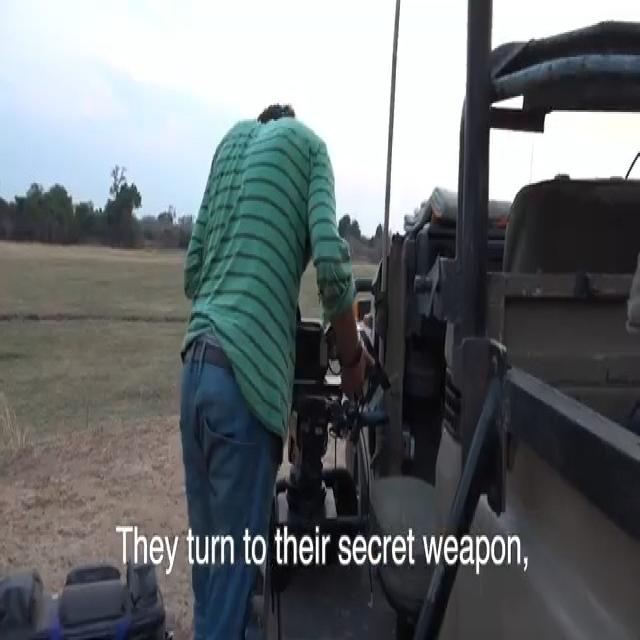device: (289, 304, 362, 586), (0, 528, 178, 640)
human: (158, 67, 366, 634), (2, 495, 40, 521)
